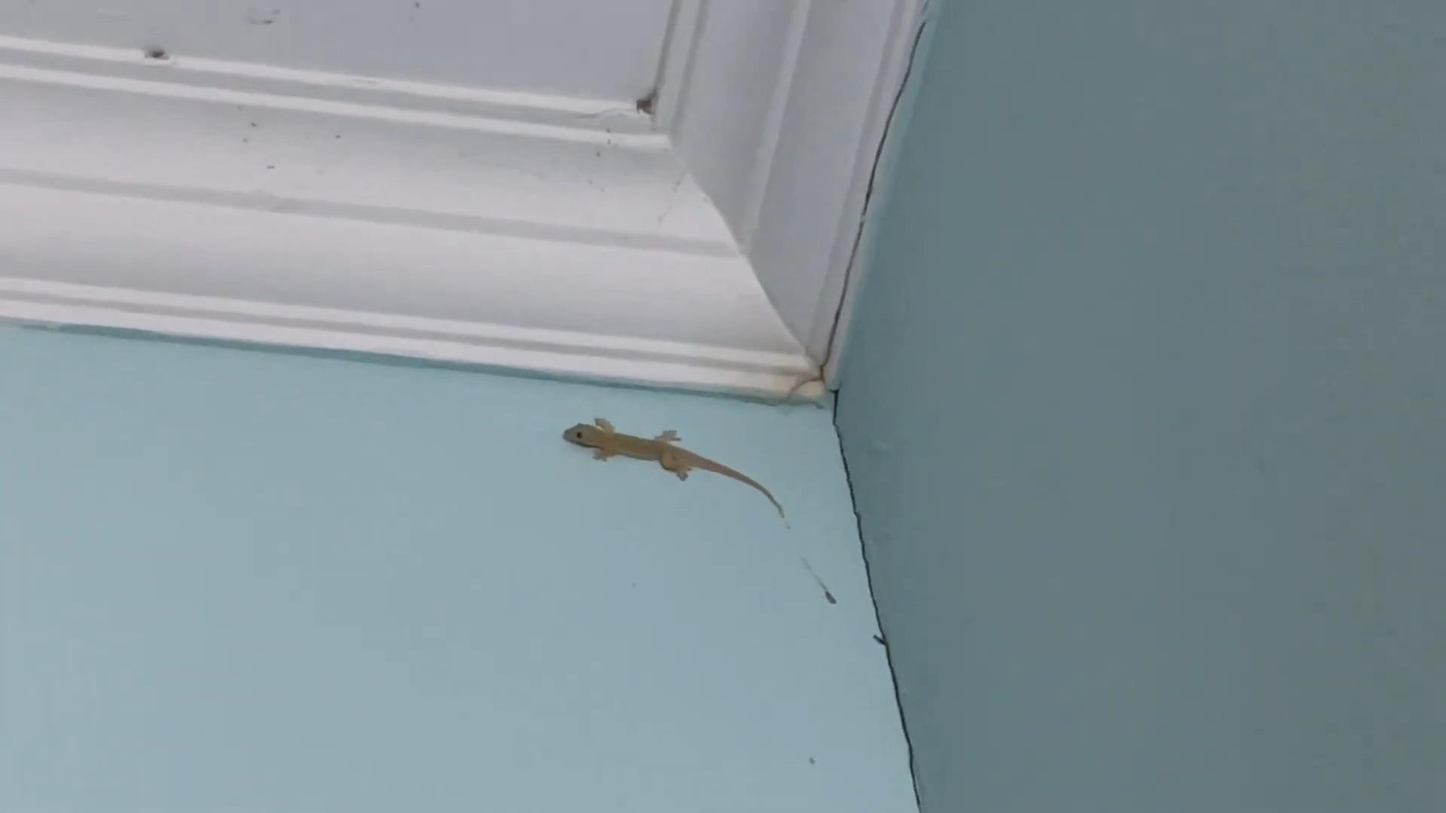lizard: (560, 414, 786, 514)
